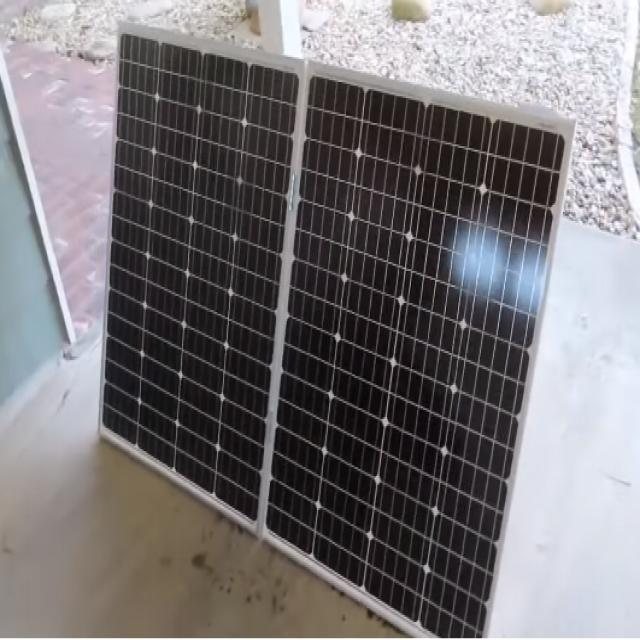Normal Solar Panel: (101, 23, 576, 636)
